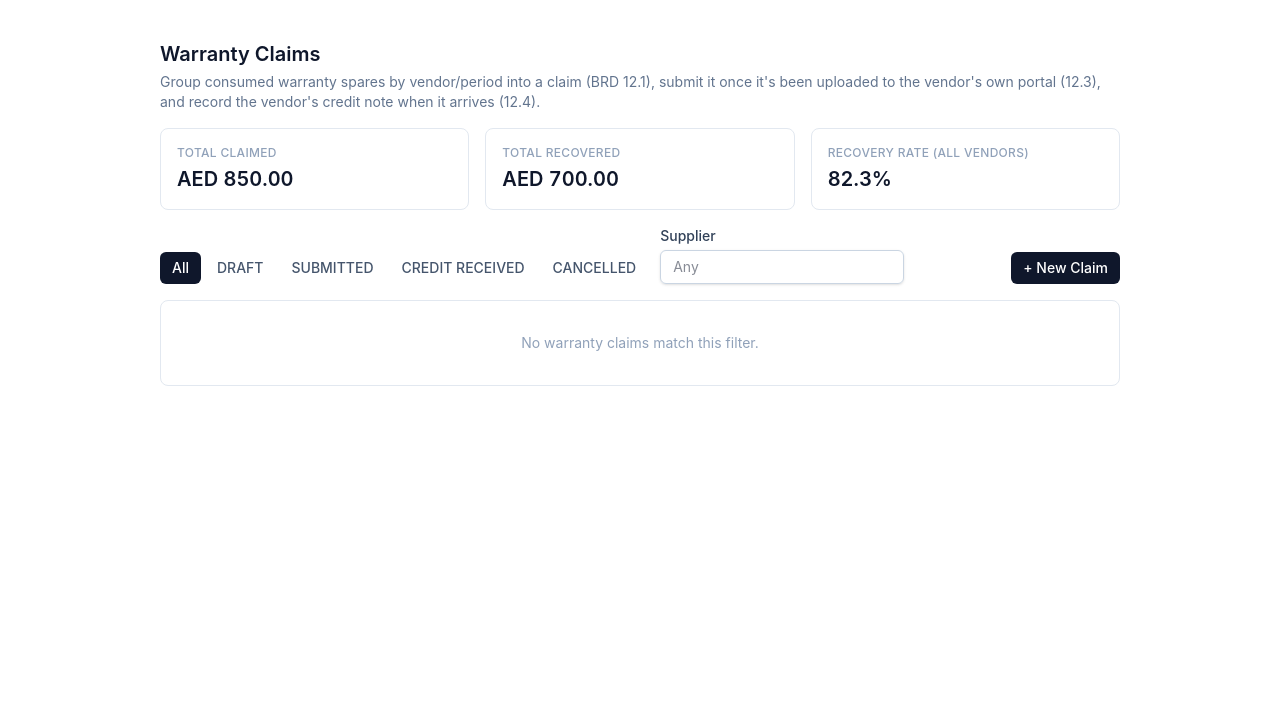
Test: WarrantyClaimsPage - aggregate (create) form › shows the backend error when nothing unclaimed is found for that vendor/period
The width and height of the screenshot is (1280, 720).
Expected: the text "No warranty claims match this filter." is shown, [160,300,1120,386]
Click the button "+ New Claim" at (1066, 268), box [1011,252,1120,284]
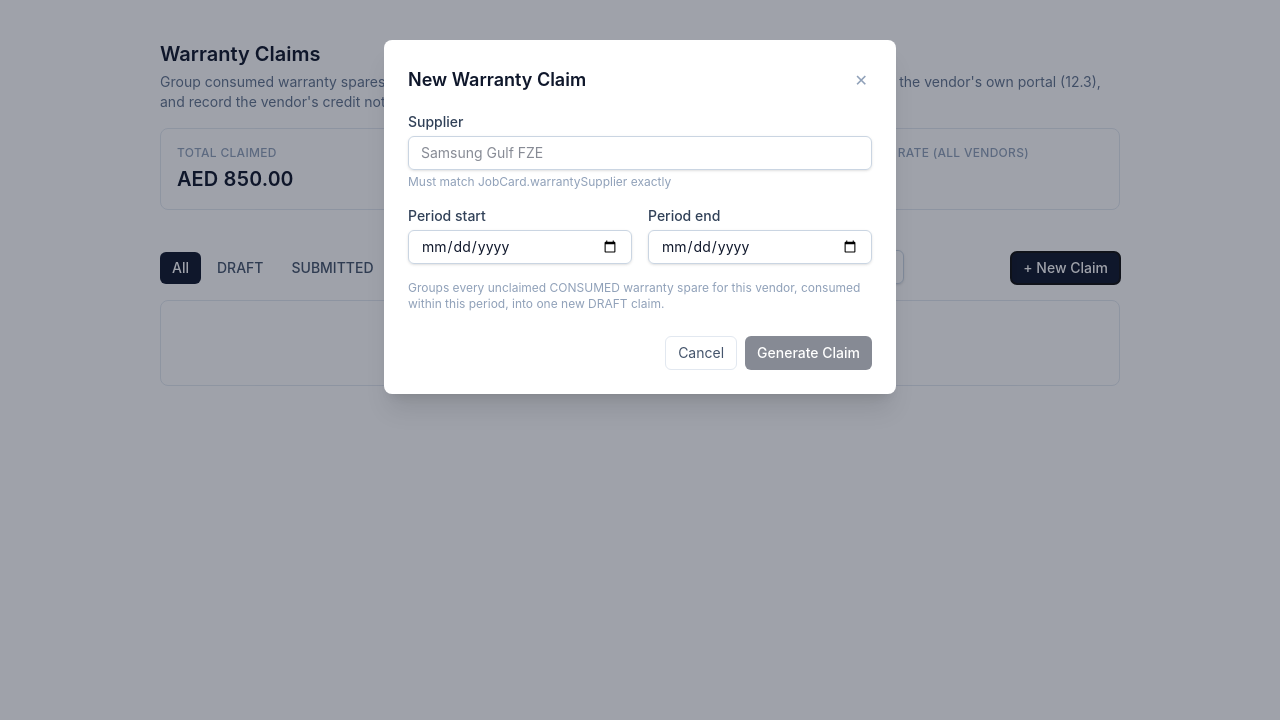
Type "LG Gulf" into the field labelled "Supplier Must match JobCard.warrantySupplier exactly" at (640, 153), box [408,136,872,170]
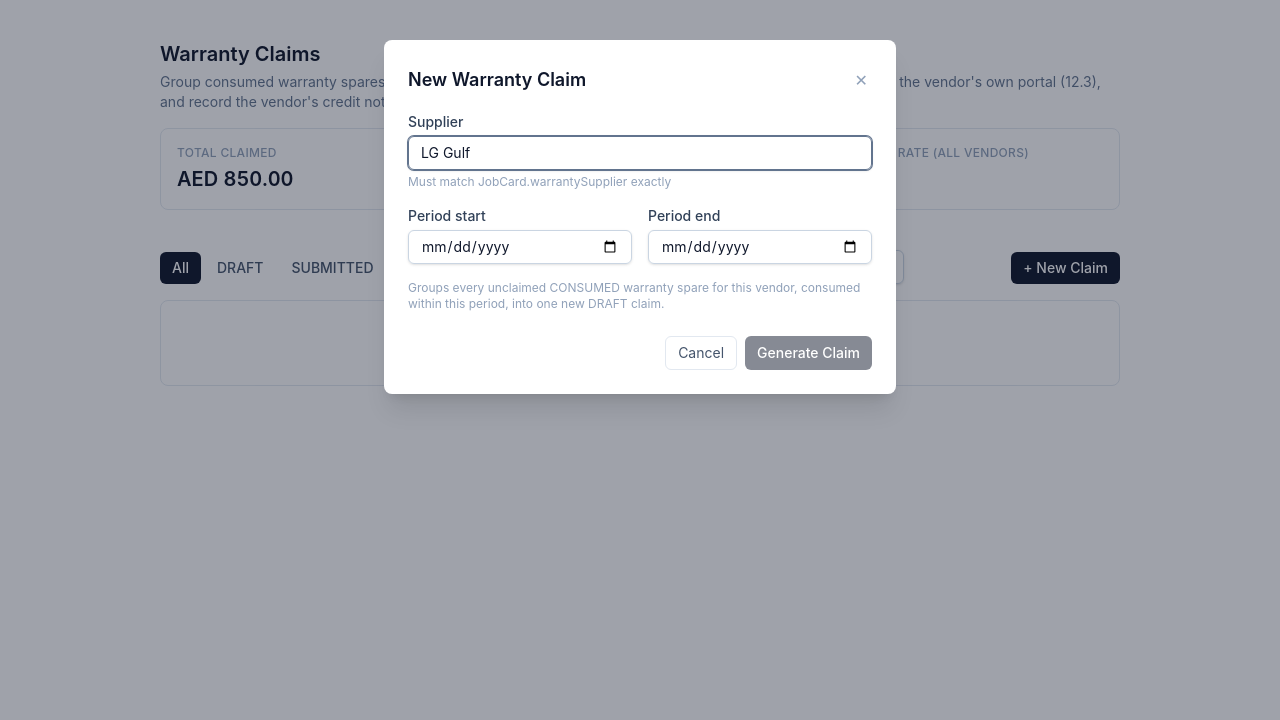
Type "2026-08-01" into the date field labelled "Period start" at (520, 247), box [408,230,632,264]
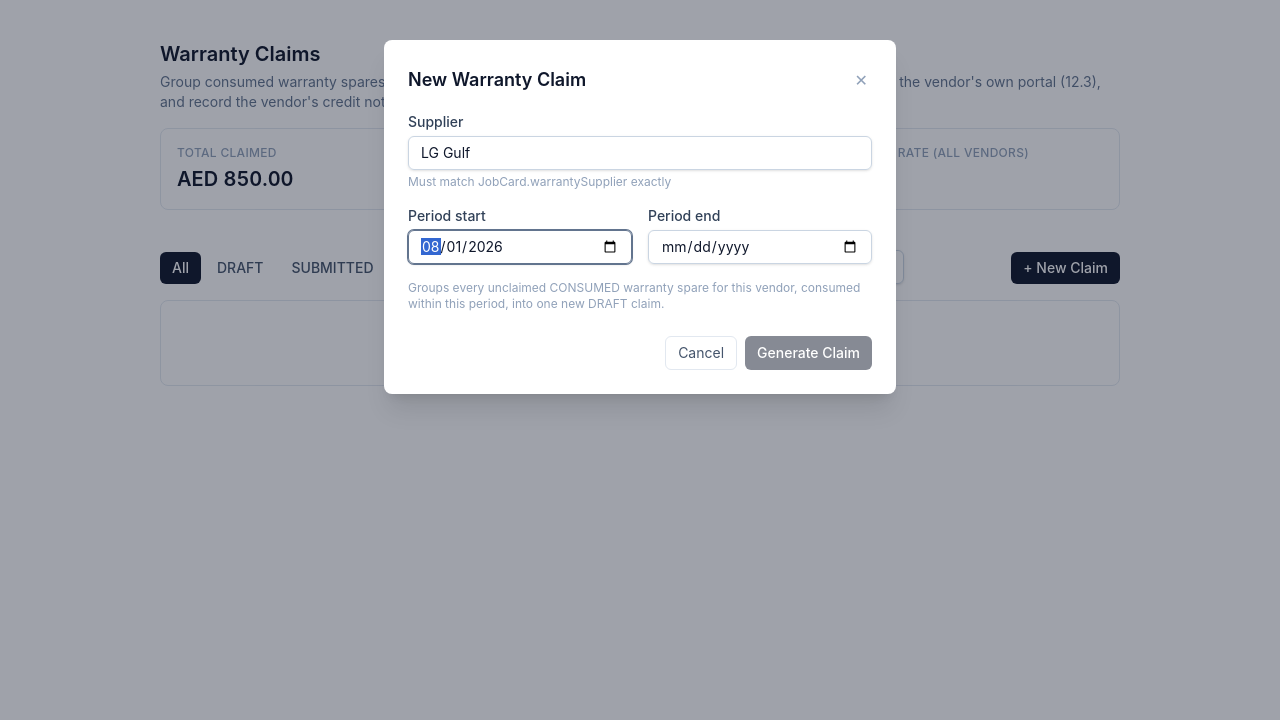
Type "2026-08-31" into the date field labelled "Period end" at (760, 247), box [648,230,872,264]
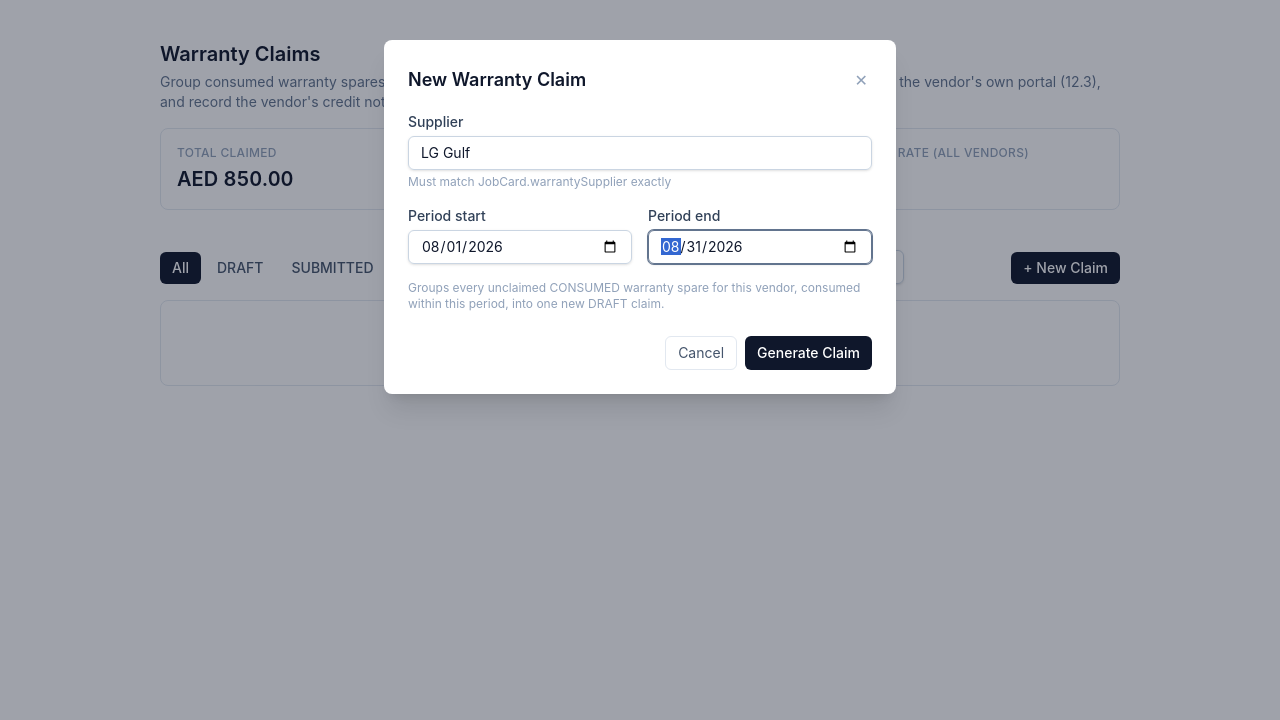
Click the button "Generate Claim" at (809, 353), box [745,336,872,370]
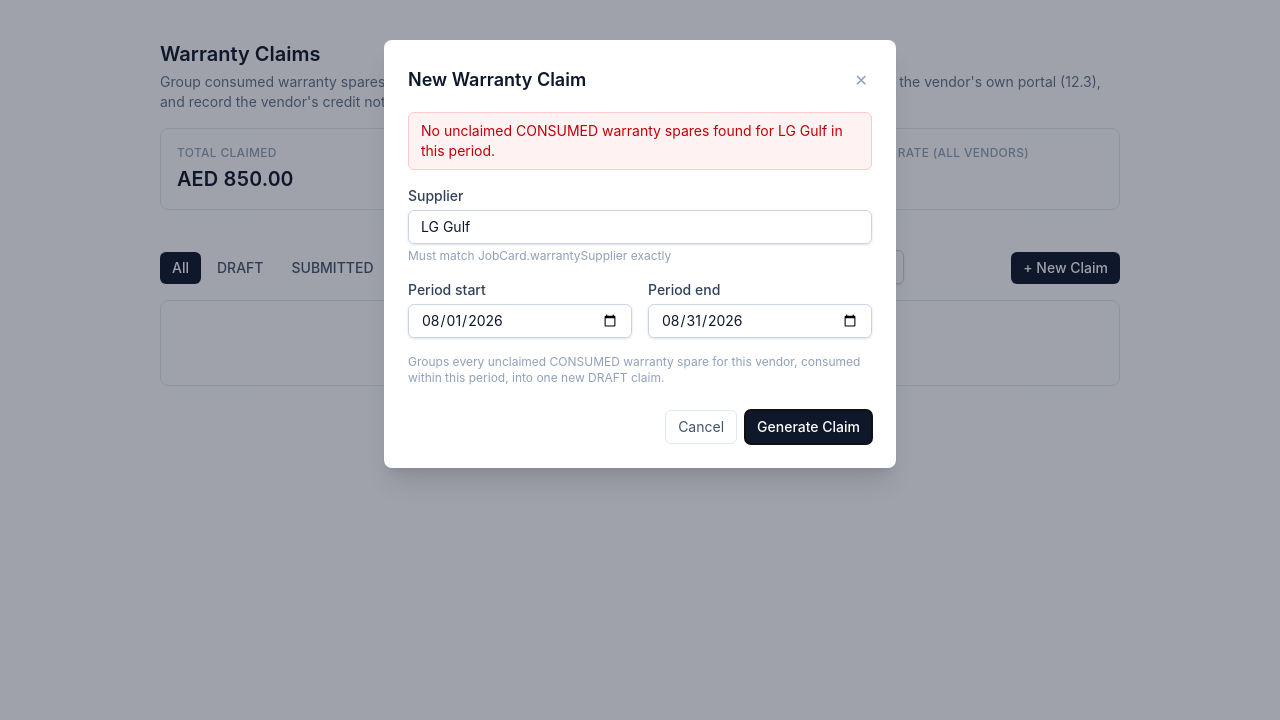
Expected: the text "No unclaimed CONSUMED warranty spares found" is shown, [421,122,843,159]
